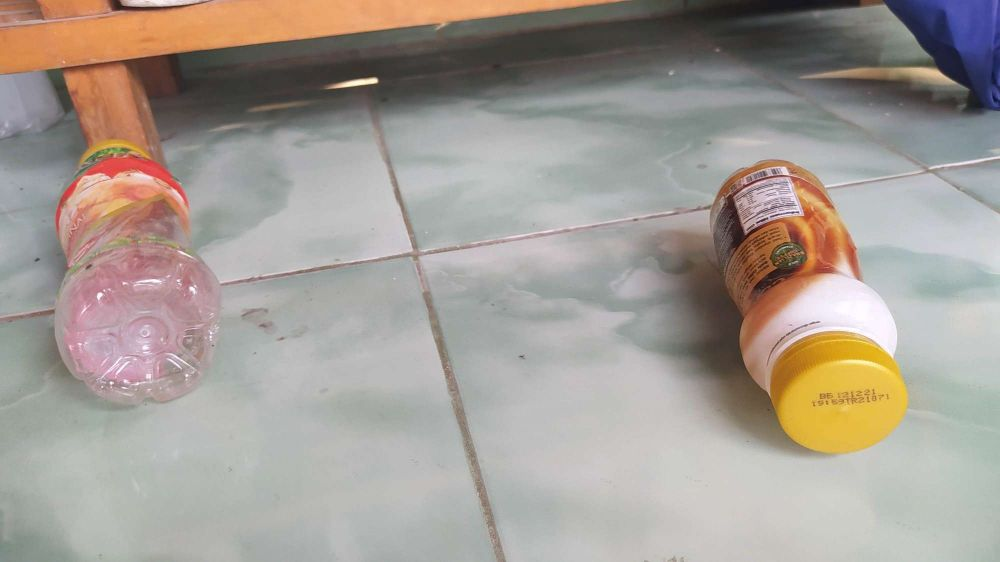botol: (699, 142, 953, 474), (37, 129, 247, 393)
